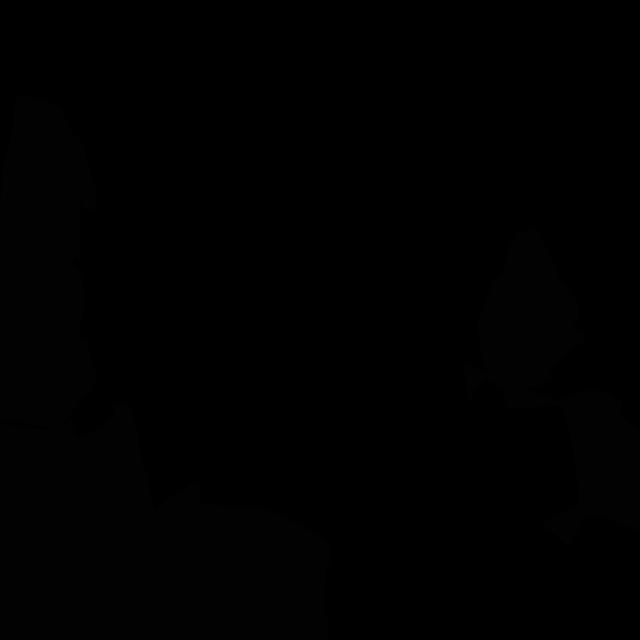cardboard: (0, 403, 330, 640), (0, 95, 98, 430), (462, 365, 640, 548), (477, 226, 588, 387)
